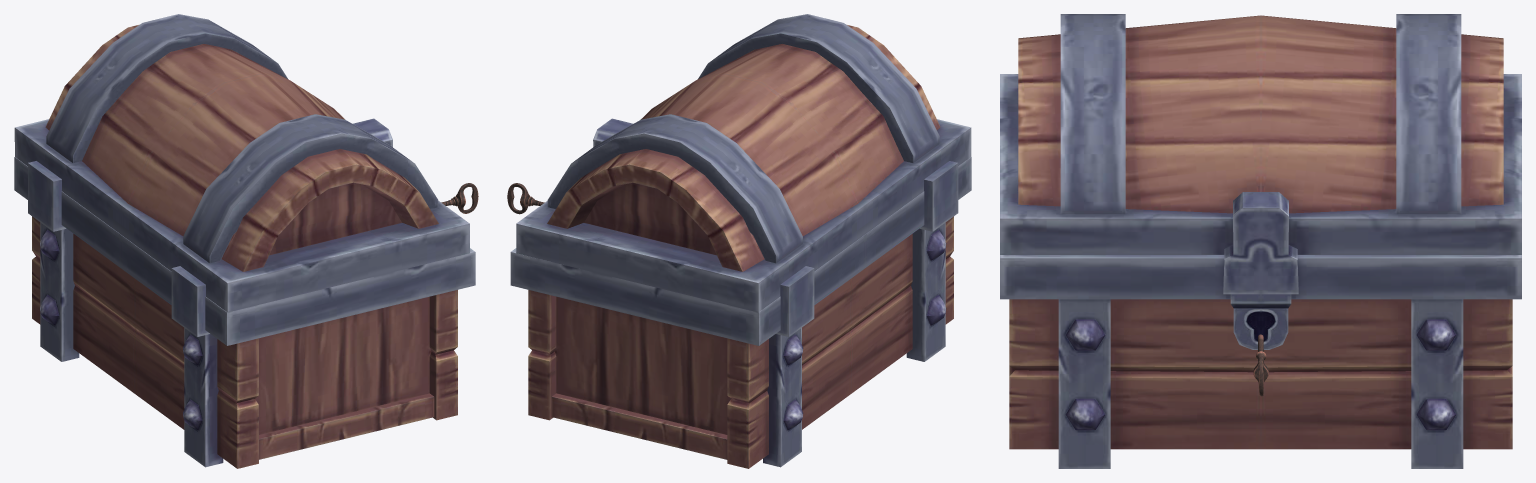
The model's file is treasure-game.glb.
3 views of the same model, side by side, from view 1: azimuth 30°, elevation 25°; view 2: azimuth 150°, elevation 25°; view 3: azimuth 270°, elevation 25° (orthographic). The views are drawn at different scales.
Visible parts, largest first — view 1: Chest_top, Chest_bottom, Key; view 2: Chest_top, Chest_bottom, Key; view 3: Chest_top, Chest_bottom.
Boxes of the visible parts, x1,y1,x2,y2 form: Chest_top: (14,14,469,312); Chest_bottom: (14,157,475,468); Key: (441,183,478,213); Chest_top: (516,14,971,312); Chest_bottom: (510,157,971,468); Key: (507,183,544,214); Chest_top: (1000,14,1521,294); Chest_bottom: (1000,255,1521,468).
Size of the model in its own units: 16.19 by 12.66 by 16.29.
Materials: 2 (2 with a texture image).
